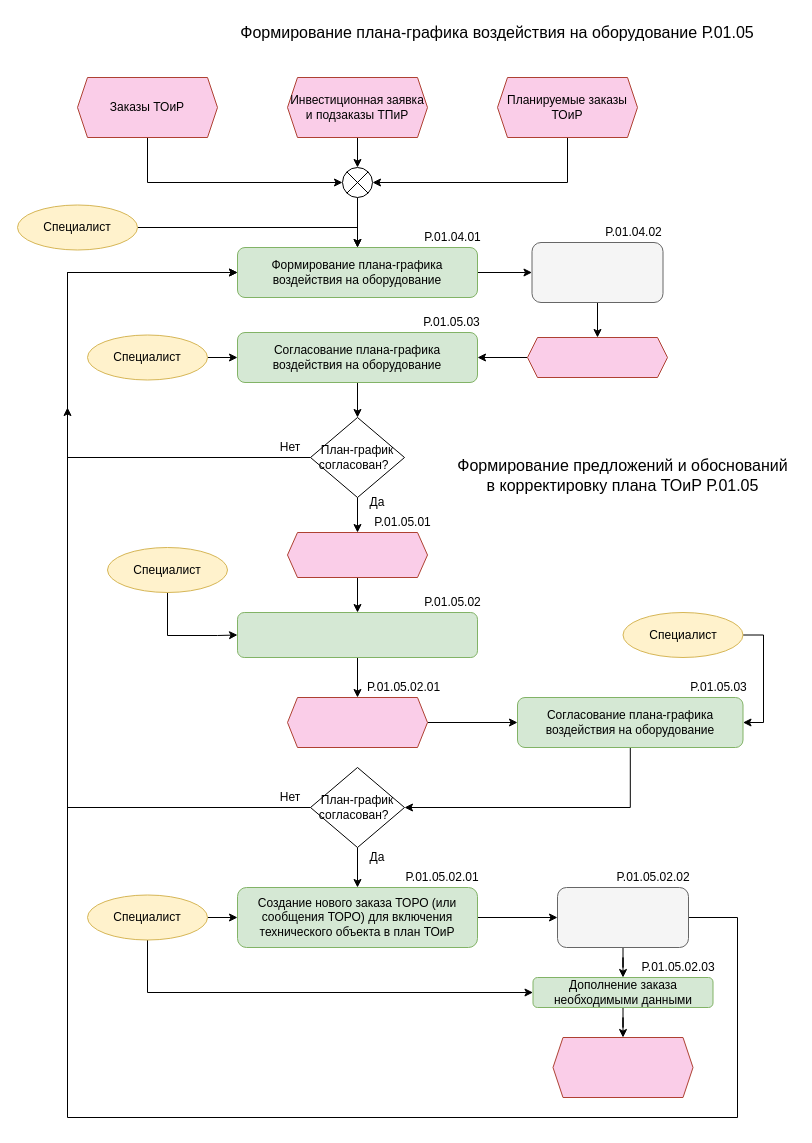
This 812x1143 diagram has some shape labels left out. The centre of each missing label's shape, as x and y in pixels:
"Ведение версионности плана-графика" goes at (597,272).
"Версия плана-графика создана" goes at (597,357).
"Заказ создан; тех.объект исключен из программы ТПиР" goes at (622,917).
"Заказ ТОиР изменен" goes at (622,1067).
"План-график сформирован" goes at (357,555).
"Предложение сформировано" goes at (357,722).
"Формирование предложений в корректировку плана ТОиР" goes at (357,635).
